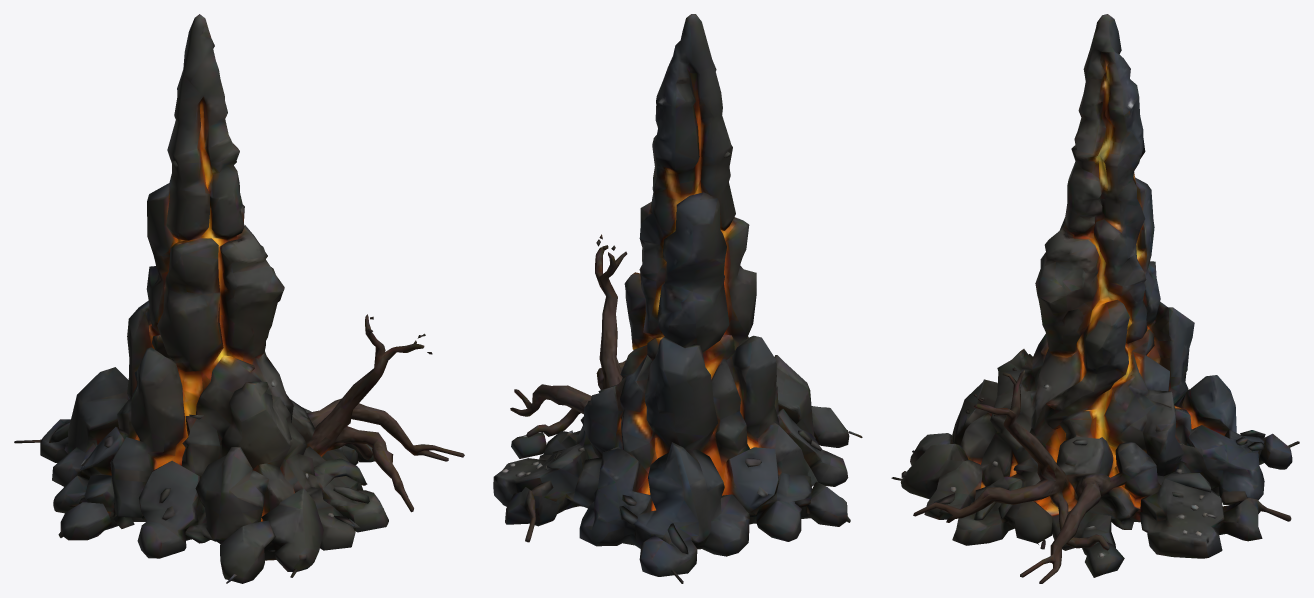
The model's file is env_ashspire.glb.
3 views of the same model, side by side, from view 1: azimuth 30°, elevation 25°; view 2: azimuth 150°, elevation 25°; view 3: azimuth 270°, elevation 25° (orthographic).
Visible parts, largest first — view 1: tripo_node_4b95ae5e-2e27-485b-878b-b0b0fef4bac3; view 2: tripo_node_4b95ae5e-2e27-485b-878b-b0b0fef4bac3; view 3: tripo_node_4b95ae5e-2e27-485b-878b-b0b0fef4bac3.
Boxes of the visible parts, x1,y1,x2,y2 form: tripo_node_4b95ae5e-2e27-485b-878b-b0b0fef4bac3: (14,14,464,583); tripo_node_4b95ae5e-2e27-485b-878b-b0b0fef4bac3: (493,14,862,583); tripo_node_4b95ae5e-2e27-485b-878b-b0b0fef4bac3: (891,14,1299,583).
Bounding box in the file's own units: 0.8024 × 1 × 0.777.
1 material, 1 textured.
